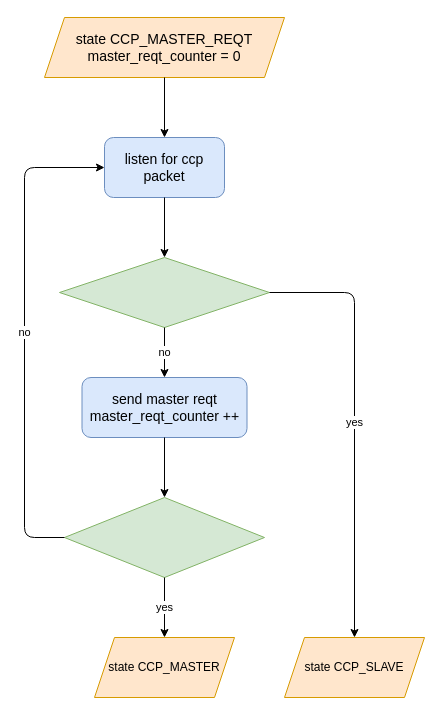
Image size: 442x715. Some labels were removed from this diagram. The shapes that lost their labels are listed below. From the top down, each one's centre as x and y in pixels, then its label:
At (164,292): "recv ccp packet or ccp reqt packet".
At (164,537): "master_reqt_counter > thresh".
